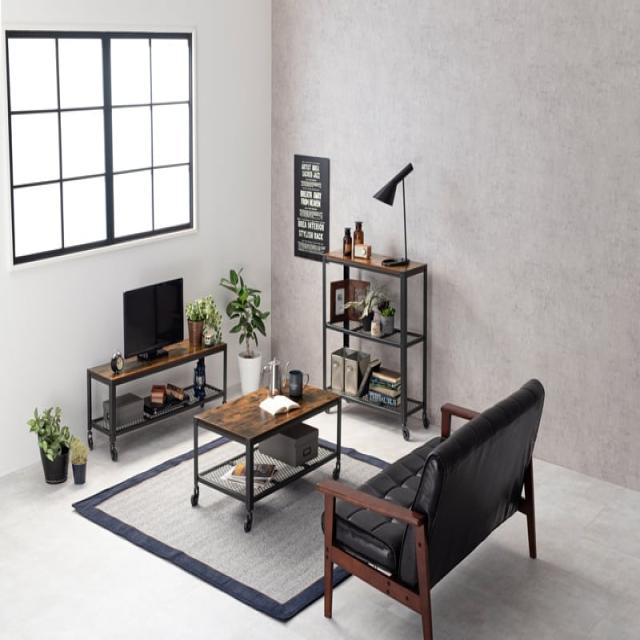vintage desk: (76, 329, 228, 455), (182, 374, 342, 485)
vintage shelf: (320, 244, 434, 441)
vintage sofa: (318, 374, 542, 633)
